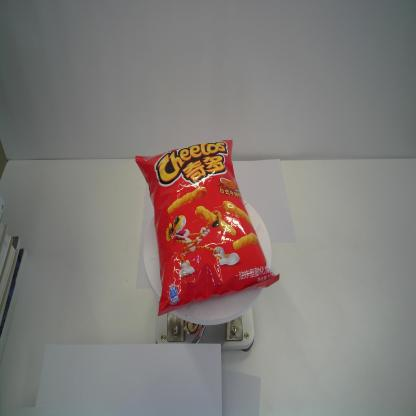Puffed Food: (132, 134, 280, 316)
